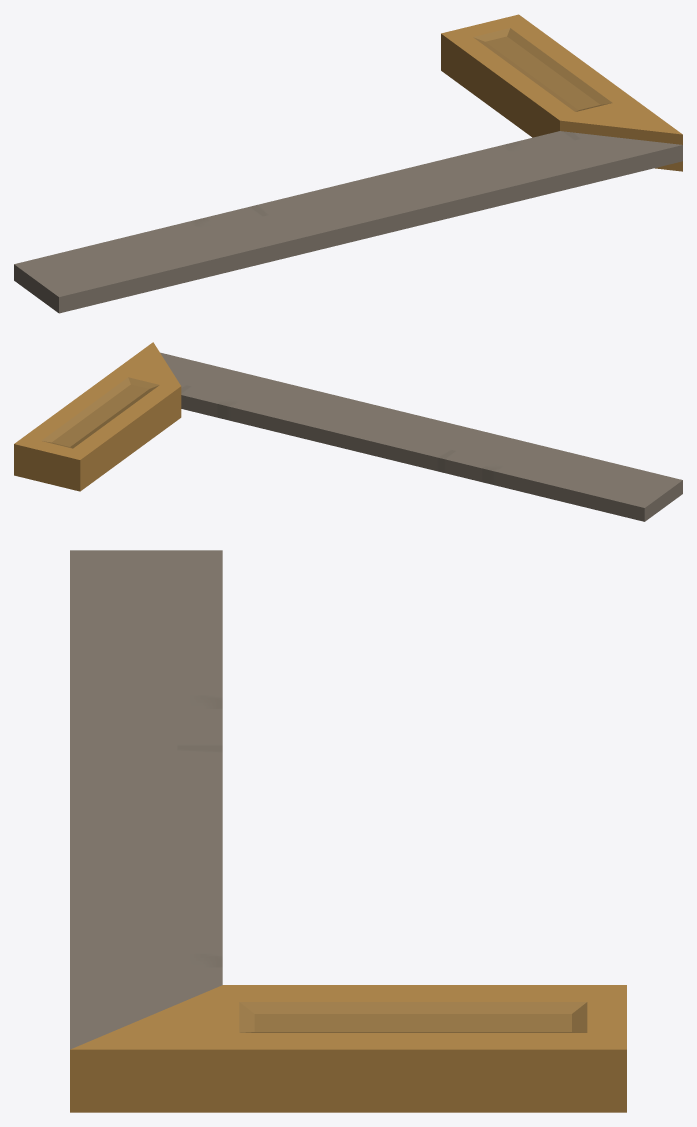
Rendered from SM_Tool_Square_01.fbx.
3 views of the same model, one above another, from view 1: azimuth 30°, elevation 25°; view 2: azimuth 150°, elevation 25°; view 3: azimuth 270°, elevation 25° (orthographic). The views are drawn at different scales.
Parts seen in each view (by area): view 1: SM_Tool_Square_01; view 2: SM_Tool_Square_01; view 3: SM_Tool_Square_01.
Part boxes in pixels (x1=…): SM_Tool_Square_01: x1=14, y1=14, x2=682, y2=313; SM_Tool_Square_01: x1=14, y1=342, x2=682, y2=521; SM_Tool_Square_01: x1=70, y1=550, x2=626, y2=1112.
Size of the model in its own units: 40 by 2.27 by 18.22.
